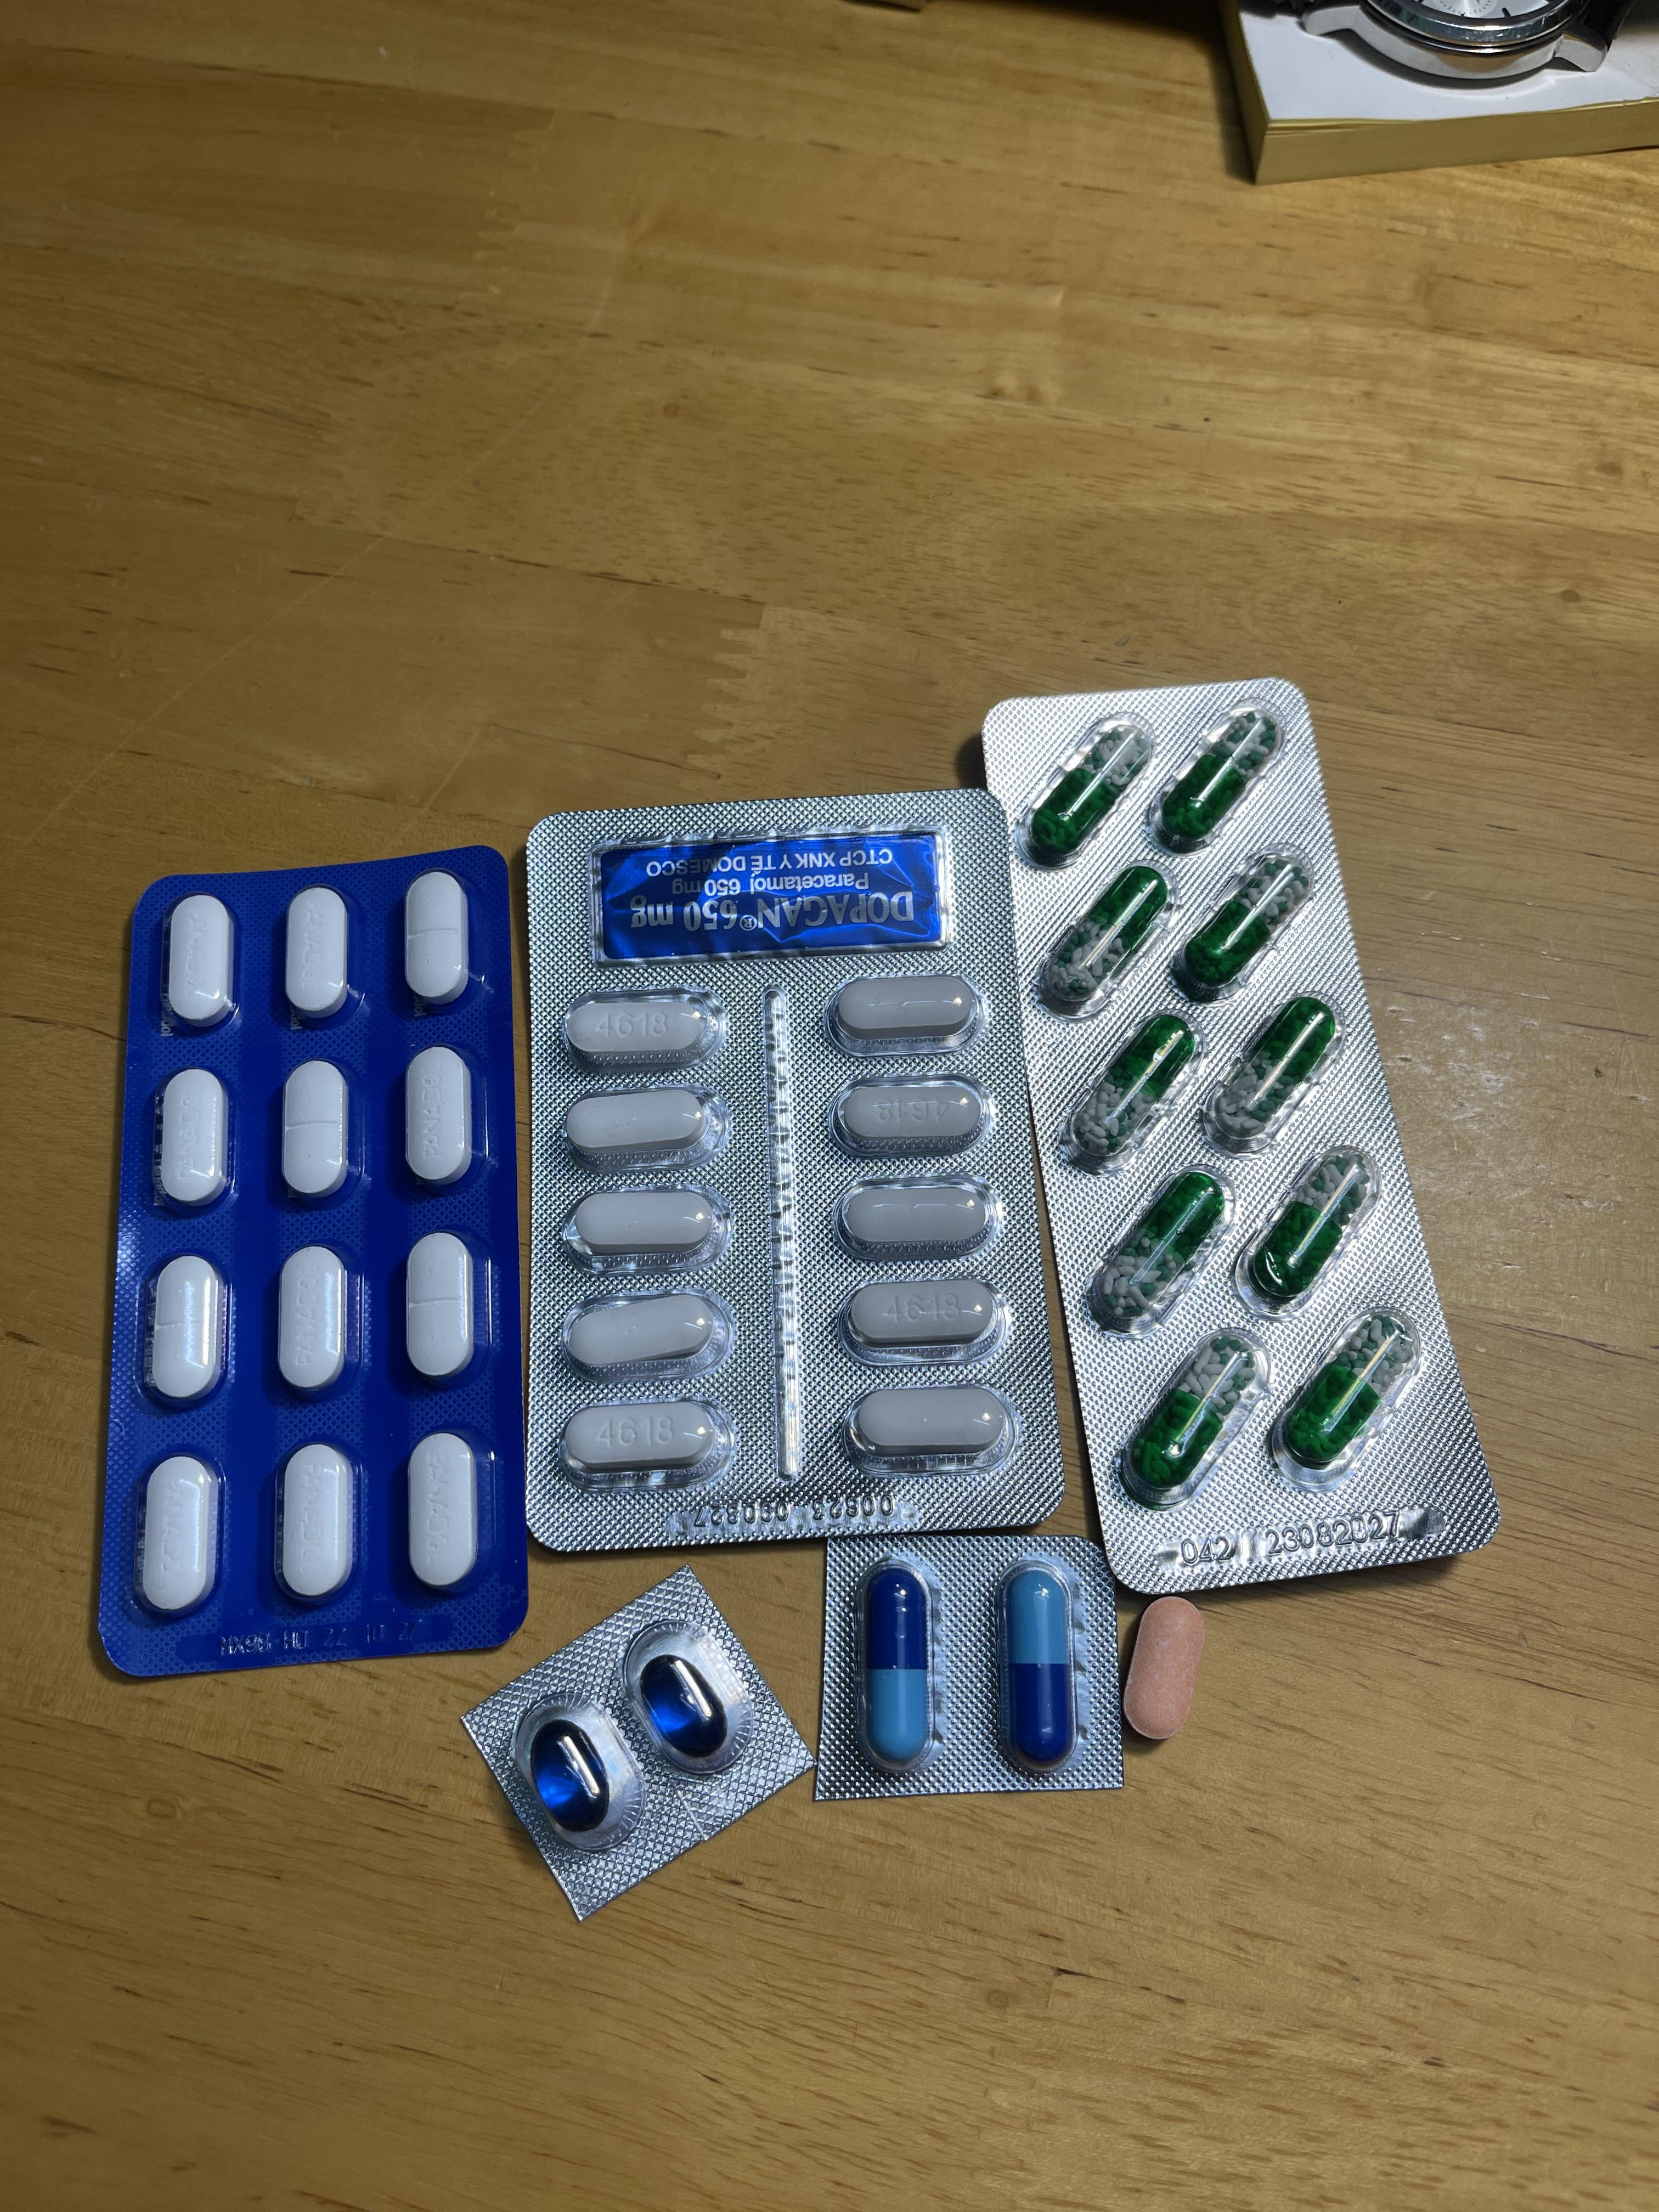Lincomyxin_500mg: (530, 1721, 610, 1829), (641, 1656, 727, 1752)
Loratadine_10mg: (1122, 1597, 1204, 1740)
Paracetamol_350mg: (138, 1453, 220, 1616), (275, 1444, 356, 1604), (145, 1254, 225, 1407), (274, 1245, 352, 1397), (406, 1432, 481, 1590), (406, 1231, 479, 1383), (155, 1068, 232, 1211), (404, 1047, 477, 1186), (281, 1061, 352, 1202), (164, 895, 234, 1029), (282, 887, 350, 1019), (403, 871, 469, 1005)
Paracetamol_500mg: (558, 1395, 728, 1489), (843, 1379, 1012, 1468), (561, 1291, 727, 1372), (830, 1073, 995, 1153), (836, 1277, 1004, 1355), (836, 1176, 999, 1256), (826, 972, 985, 1050), (565, 1184, 725, 1261), (561, 991, 725, 1064), (559, 1085, 714, 1160)
Paracetamol_650mg: (1276, 1303, 1419, 1474), (1089, 1163, 1232, 1331), (1239, 1141, 1378, 1310), (1171, 846, 1317, 1000), (1129, 1329, 1267, 1491), (1204, 993, 1344, 1150), (1065, 1010, 1199, 1169), (1039, 860, 1173, 1014), (1150, 702, 1284, 852), (1021, 714, 1154, 866)
pill: (1004, 1568, 1073, 1764), (863, 1566, 931, 1761)
